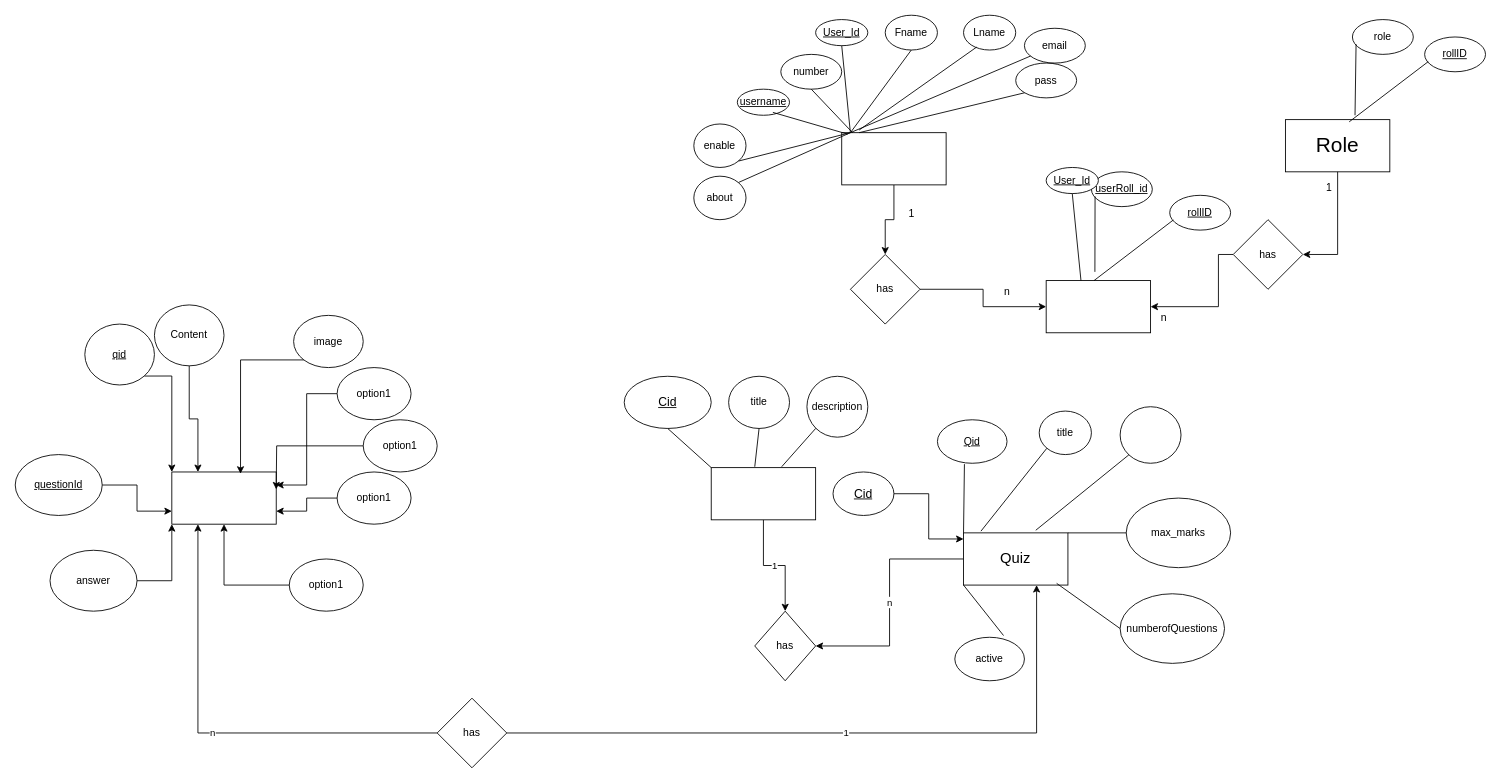
The diagram is 1501 pixels wide and 783 high, and some of its shapes have lost their labels. The shapes that lost their labels are listed below. From the top down, each one's centre as x and y in pixels, then its label:
At [893,158]: "user".
At [1098,306]: "User_Role".
At [1150,434]: "discription".
At [223,497]: "Question".
At [763,493]: "categaries".
